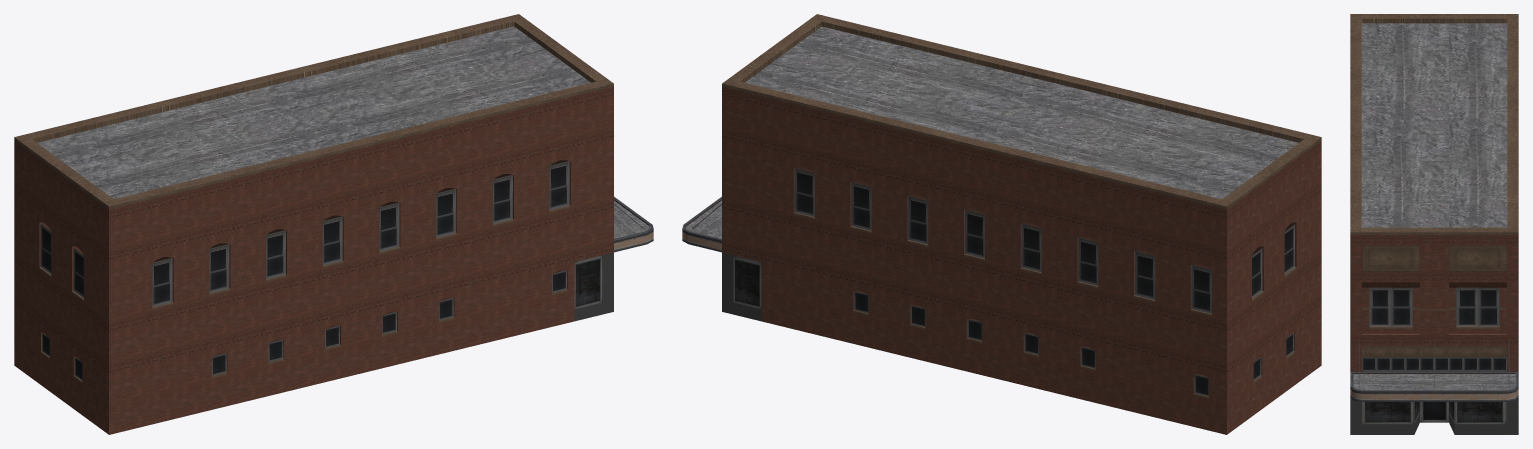
The model's file is brickshop.glb.
3 renders of one model, left to right at view 1: azimuth 30°, elevation 25°; view 2: azimuth 150°, elevation 25°; view 3: azimuth 270°, elevation 25°, orthographic. The views are drawn at different scales.
Visible parts, largest first — view 1: Object_4; view 2: Object_4; view 3: Object_4.
Boxes of the visible parts, x1,y1,x2,y2 form: Object_4: [14, 14, 653, 434]; Object_4: [682, 14, 1321, 434]; Object_4: [1350, 14, 1518, 434].
Bounding box in the file's own units: 24.23 × 9.61 × 7.24.
1 material, 1 textured.
